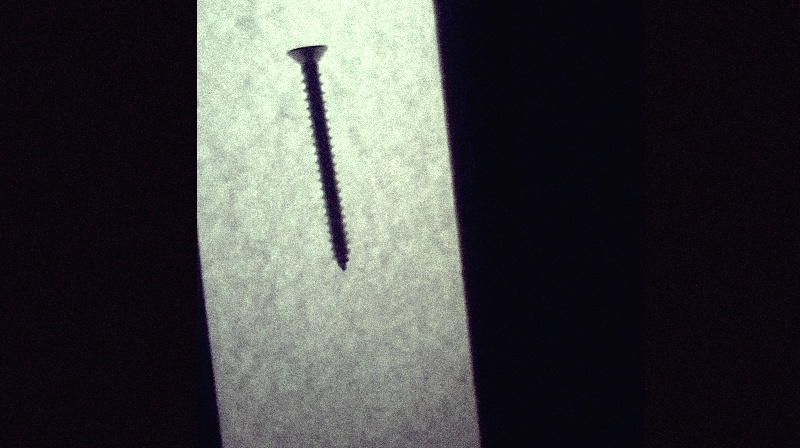S002: (282, 42, 351, 275)
